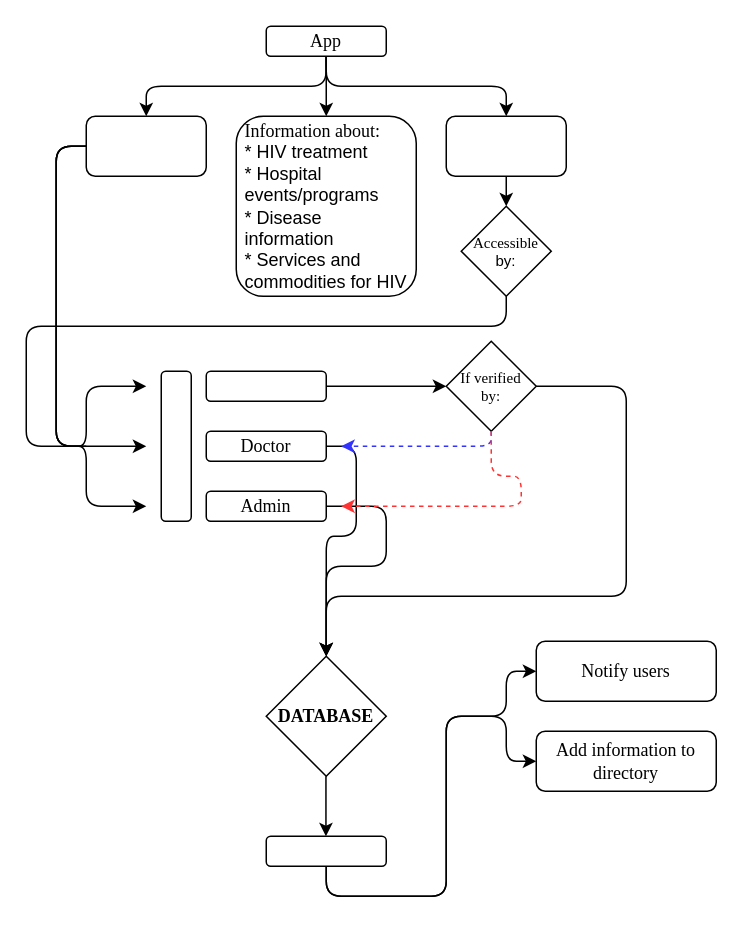
The diagram is 743 pixels wide and 935 high, and some of its shapes have lost their labels. Each missing label, with the centre of its shape:
"Accessibility" goes at point 505,145.
"Dessiminate" goes at point 325,850.
"Information dessimination" goes at point 145,145.
"Patient" goes at point 265,385.
"USERS" goes at point 175,445.
